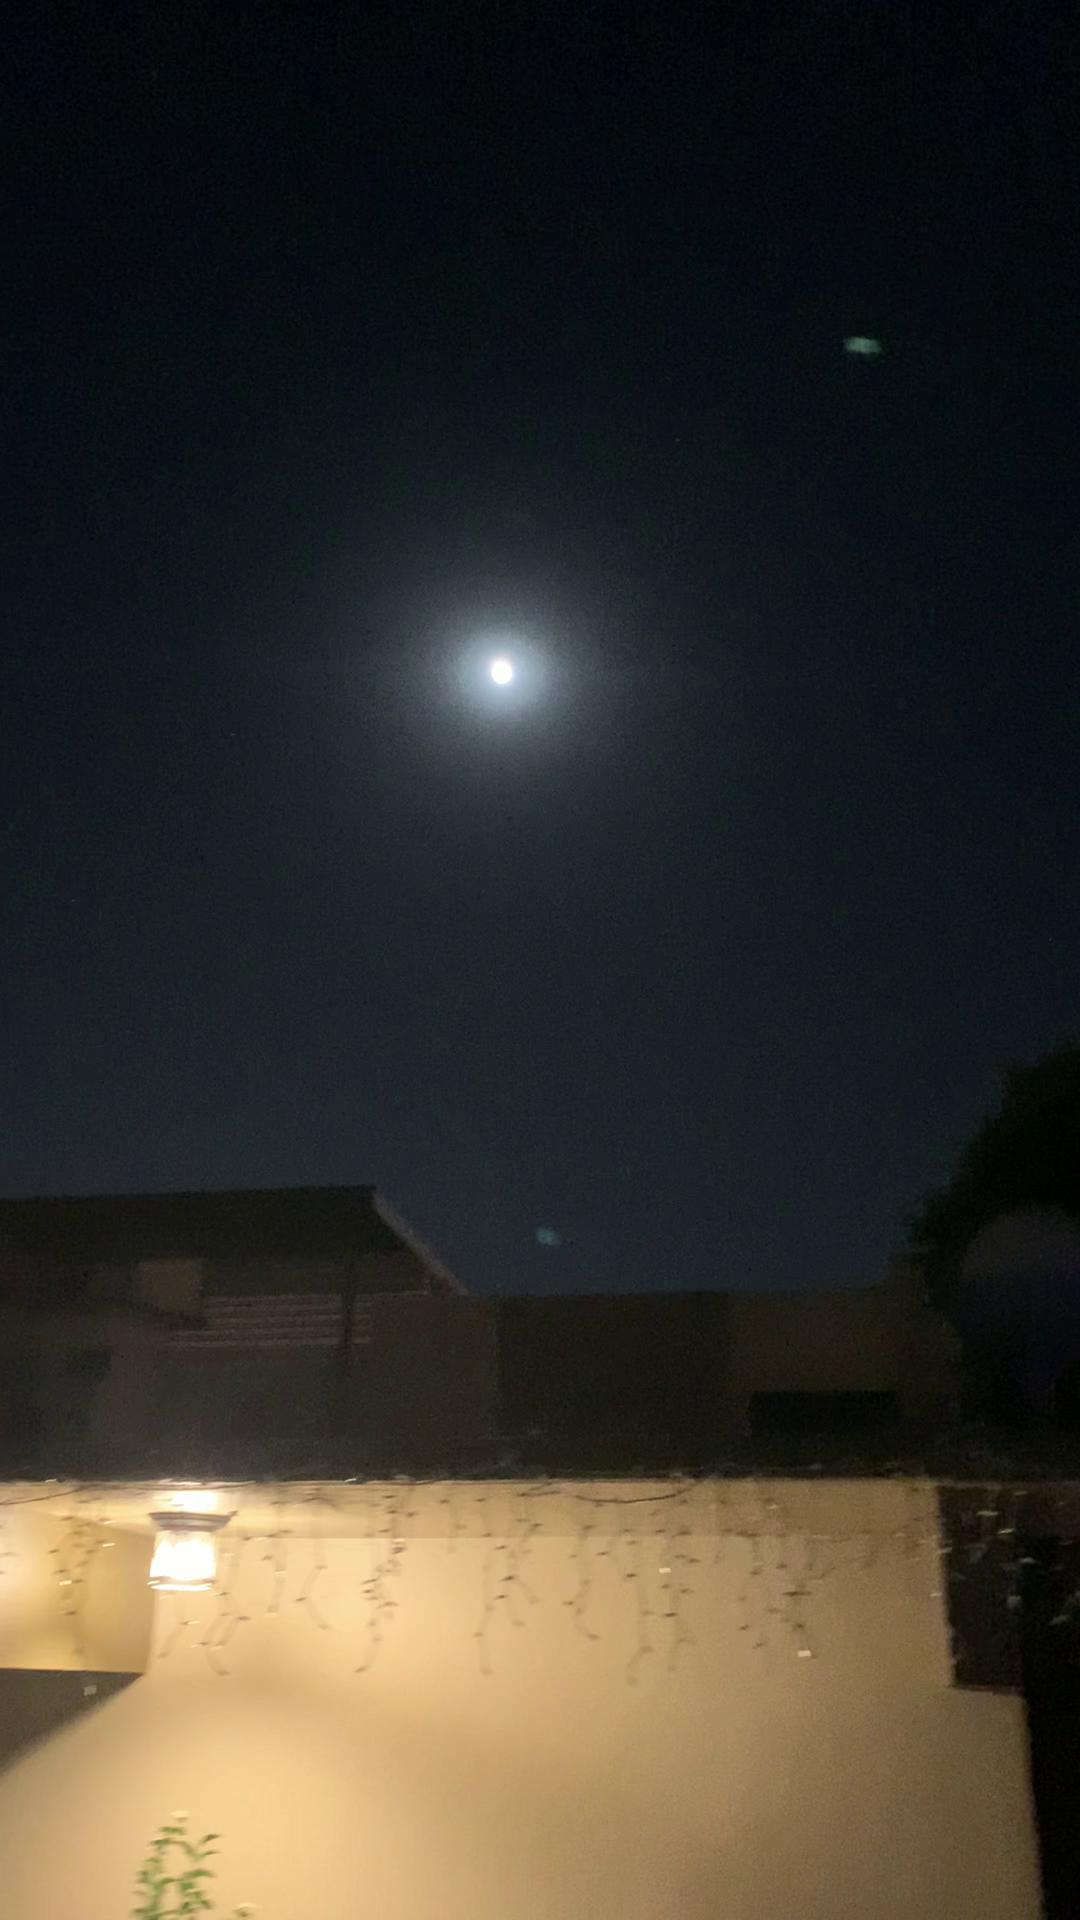moon: (472, 632, 559, 711)
